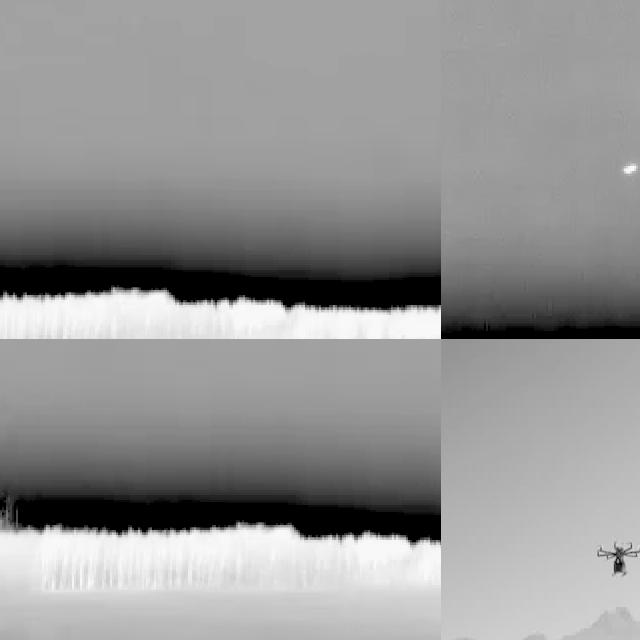1: (615, 157, 640, 187)
drone: (597, 534, 640, 582)
